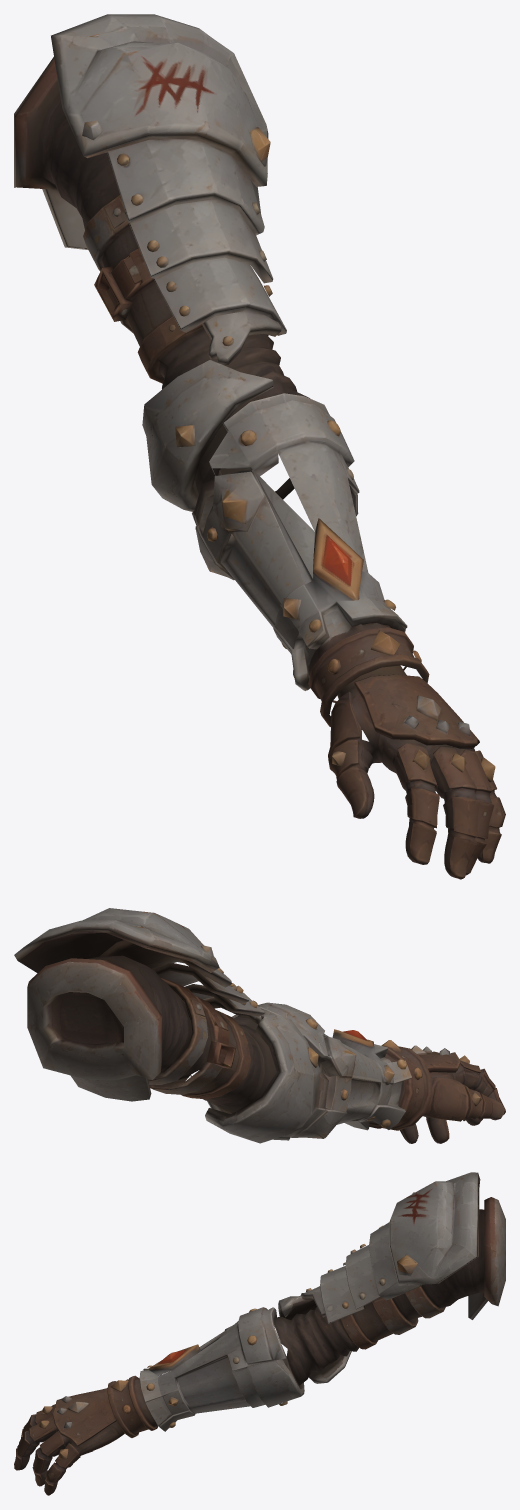
File: brazo-armadura-eromash.glb
3 renders of one model, top to bottom at view 1: azimuth 30°, elevation 25°; view 2: azimuth 150°, elevation 25°; view 3: azimuth 270°, elevation 25°, orthographic. The views are drawn at different scales.
Parts seen in each view (by area): view 1: tripo_52b71363_f2f2_4b1b_8c19_7cebae436eea; view 2: tripo_52b71363_f2f2_4b1b_8c19_7cebae436eea; view 3: tripo_52b71363_f2f2_4b1b_8c19_7cebae436eea.
Part boxes in pixels (x1=…): tripo_52b71363_f2f2_4b1b_8c19_7cebae436eea: x1=14, y1=14, x2=505, y2=879; tripo_52b71363_f2f2_4b1b_8c19_7cebae436eea: x1=14, y1=908, x2=505, y2=1143; tripo_52b71363_f2f2_4b1b_8c19_7cebae436eea: x1=14, y1=1172, x2=505, y2=1495.
Size of the model in its own units: 0.3374 by 0.7046 by 0.9995.
Materials: 1 (1 with a texture image).
